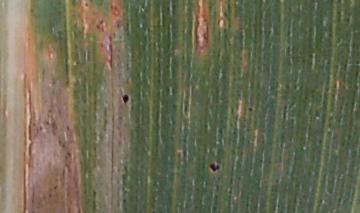tarspot: (206, 159, 223, 175), (120, 91, 131, 107), (246, 104, 257, 114)
